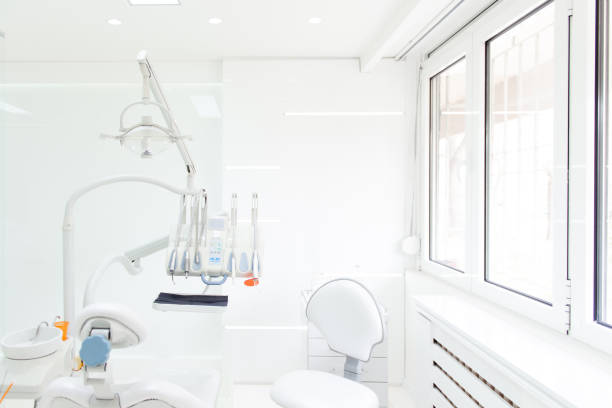chair: (270, 278, 384, 408)
exam_table: (38, 306, 219, 408)
faucet: (28, 319, 51, 342)
medical_drawer: (303, 285, 391, 408)
sink: (1, 322, 62, 362)
surgical_light: (95, 123, 199, 163)
